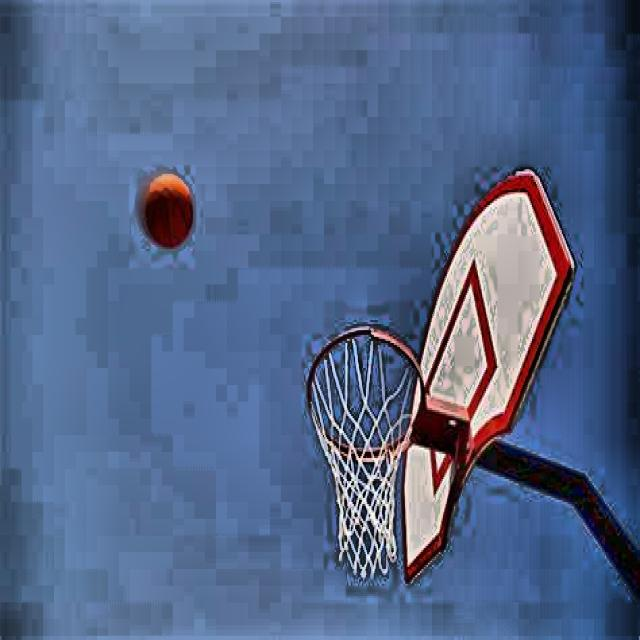board: (145, 175, 193, 250)
rim: (306, 327, 424, 578)
